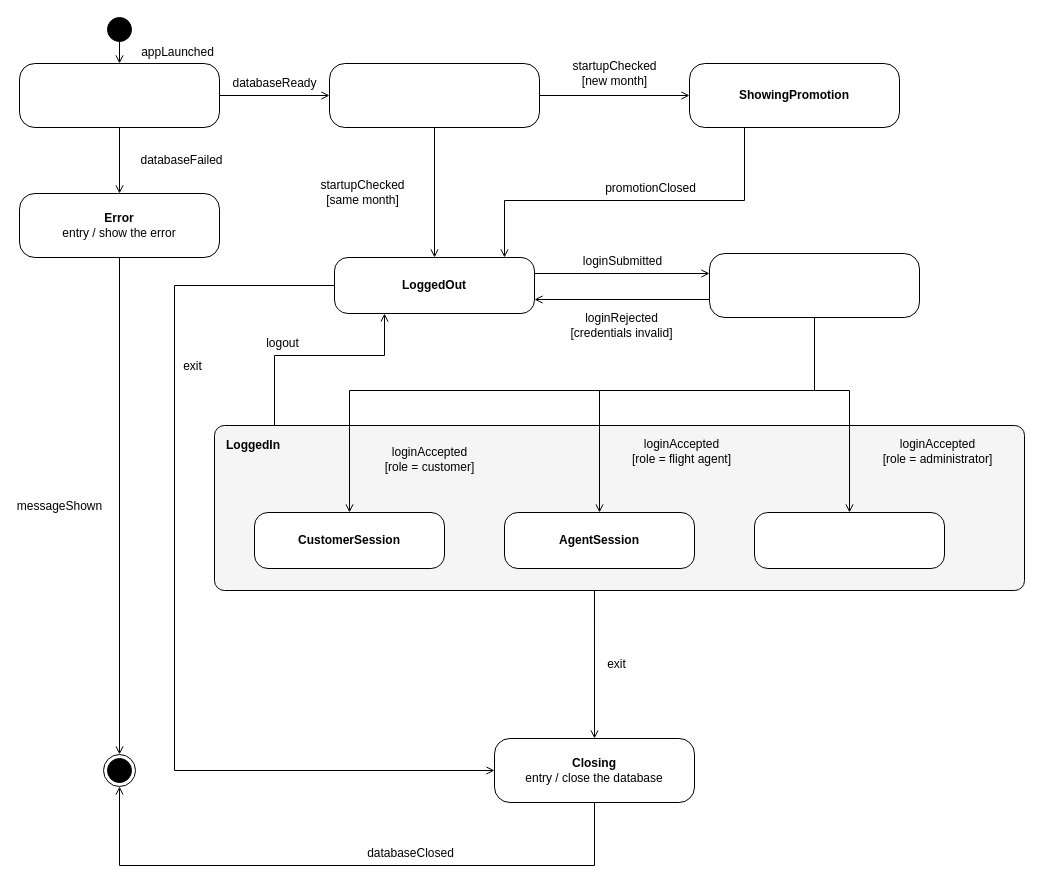
Some shapes in this 1042 by 891 pixel diagram are drawn without their labels. Each missing label, with the centre of its shape:
AdminSession: [849,540]
Authenticating do / check the credentials: [814,285]
CheckingPromotion entry / check the month: [434,95]
Starting entry / open the database: [119,95]
